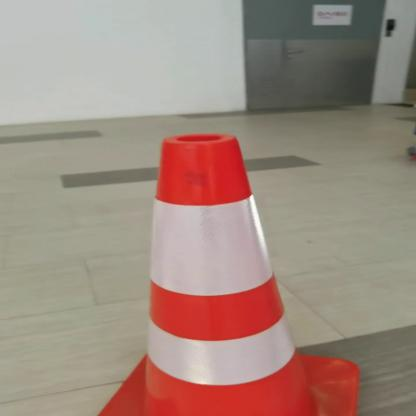cone: (101, 127, 374, 416)
